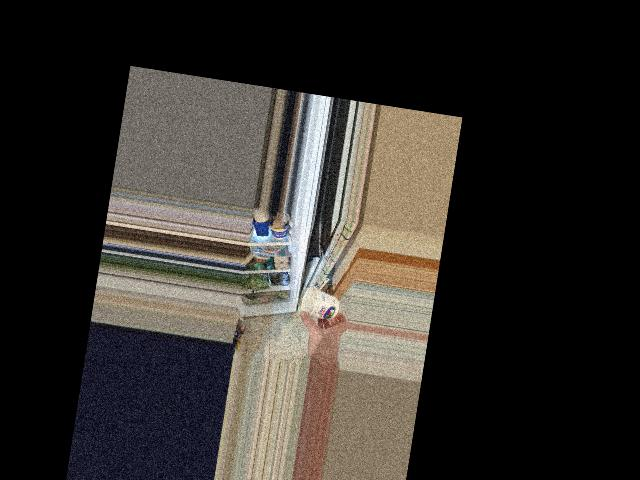cotage: (299, 284, 340, 324)
